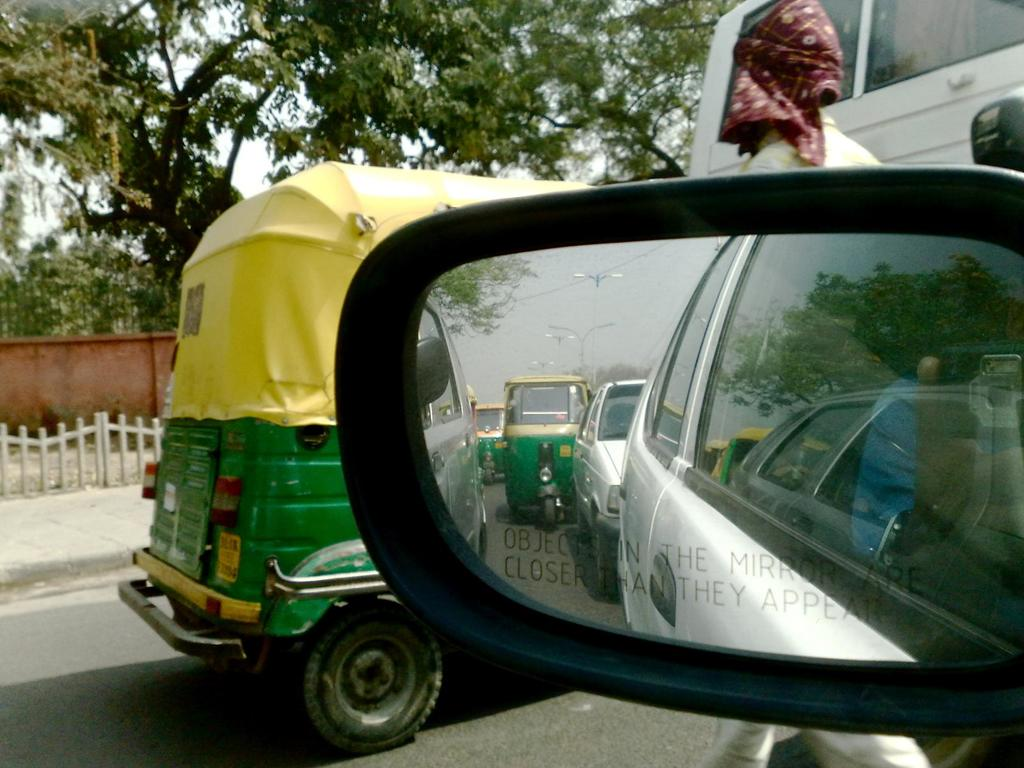Car: (328, 83, 1023, 767), (568, 378, 644, 597)
